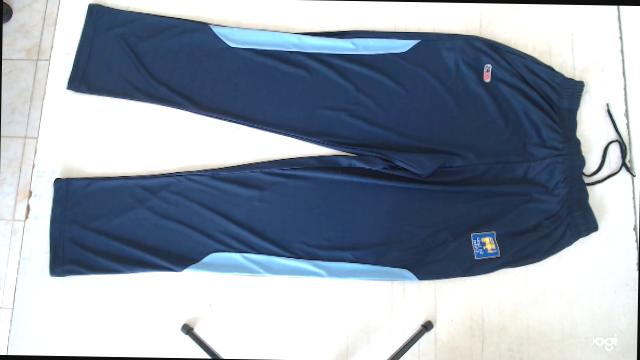new-garment: (49, 4, 598, 280)
